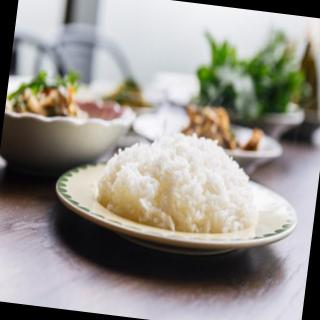Nasi: (93, 120, 268, 242)
